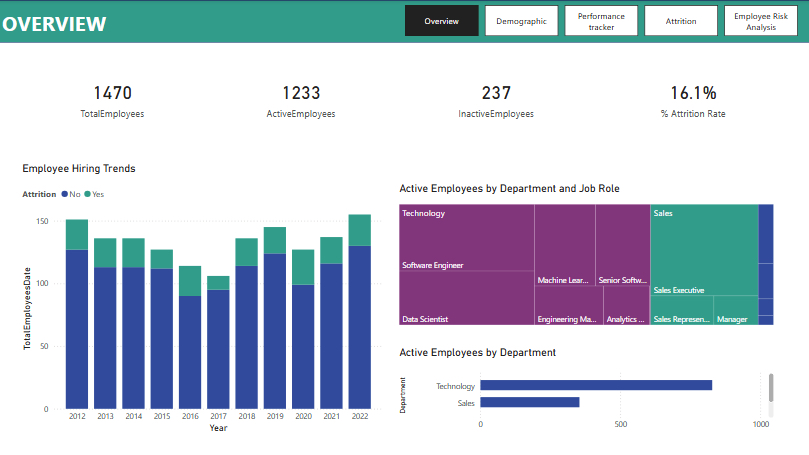

Layout of this report page (visuals, bound fields, positions):
{"tool":"powerbi","page":{"name":"Overview","canvas":[1280,720],"ordinal":0},"visuals":[{"type":"card","fields":{"Values":["_Measures.TotalEmployees"]},"box":[38.6,86.8,282.1,134.2],"z":0},{"type":"card","fields":{"Values":["_Measures.ActiveEmployees"]},"box":[336.5,87.5,281.1,134.2],"z":1000},{"type":"card","fields":{"Values":["_Measures.InactiveEmployees"]},"box":[640,87.5,287.9,134.2],"z":2000},{"type":"card","title":"A","fields":{"Values":["_Measures.% Attrition Rate"]},"box":[952.2,87.5,287.9,134.2],"z":3000},{"type":"columnChart","title":"Employee Hiring Trends","fields":{"Category":["DimDate.Date.Variation.Date Hierarchy.Year","DimDate.Date.Variation.Date Hierarchy.Quarter","DimDate.Date.Variation.Date Hierarchy.Month","DimDate.Date.Variation.Date Hierarchy.Day"],"Y":["_Measures.TotalEmployeesDate"],"Series":["DimEmployee.Attrition"]},"box":[31.1,255.8,578.7,432.8],"z":4000},{"type":"clusteredBarChart","title":"Active Employees by Department","fields":{"Category":["DimEmployee.Department"],"Y":["_Measures.ActiveEmployees"]},"box":[627.4,546.6,601.1,142],"z":5000},{"type":"treemap","title":"Active Employees by Department and Job Role","fields":{"Group":["DimEmployee.Department"],"Values":["_Measure.ActiveEmployees"],"Details":["DimEmployee.JobRole"]},"box":[627.4,286.9,601.1,230.5],"z":6000},{"type":"shape","box":[0,0,1280,67.1],"z":7000},{"type":"textbox","box":[15.6,8.8,780.1,48.6],"z":8000},{"type":"pageNavigator","box":[640,8.2,623.6,49.2],"z":9000}]}

Visuals, with their boxes in screenshot pixels (x1, y1, x2, y2), scaled from the page's 1280x720 canvas onto the 809x455 screenshot:
card - _Measures.TotalEmployees: BBox(24, 55, 203, 140)
card - _Measures.ActiveEmployees: BBox(213, 55, 390, 140)
card - _Measures.InactiveEmployees: BBox(404, 55, 586, 140)
"A" card: BBox(602, 55, 784, 140)
"Employee Hiring Trends" columnChart: BBox(20, 162, 385, 435)
"Active Employees by Department" clusteredBarChart: BBox(397, 345, 776, 435)
"Active Employees by Department and Job Role" treemap: BBox(397, 181, 776, 327)
shape: BBox(0, 0, 808, 42)
textbox: BBox(10, 6, 503, 36)
pageNavigator: BBox(404, 5, 799, 36)
